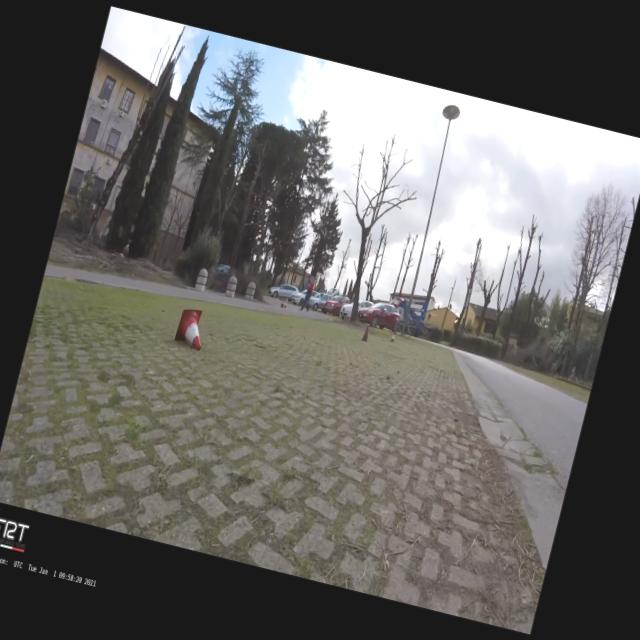large_orange_cone: (284, 297, 288, 308)
orange_cone: (173, 306, 209, 350), (388, 330, 398, 342)
unknown_cone: (359, 324, 372, 342)
